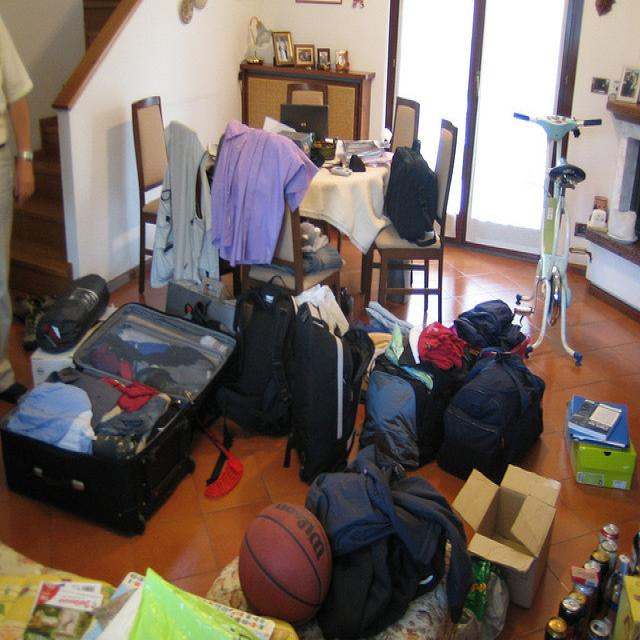chair: (223, 130, 342, 310), (364, 119, 458, 325), (130, 94, 170, 294), (388, 95, 421, 152), (287, 83, 329, 106)
dining table: (297, 162, 391, 260)
